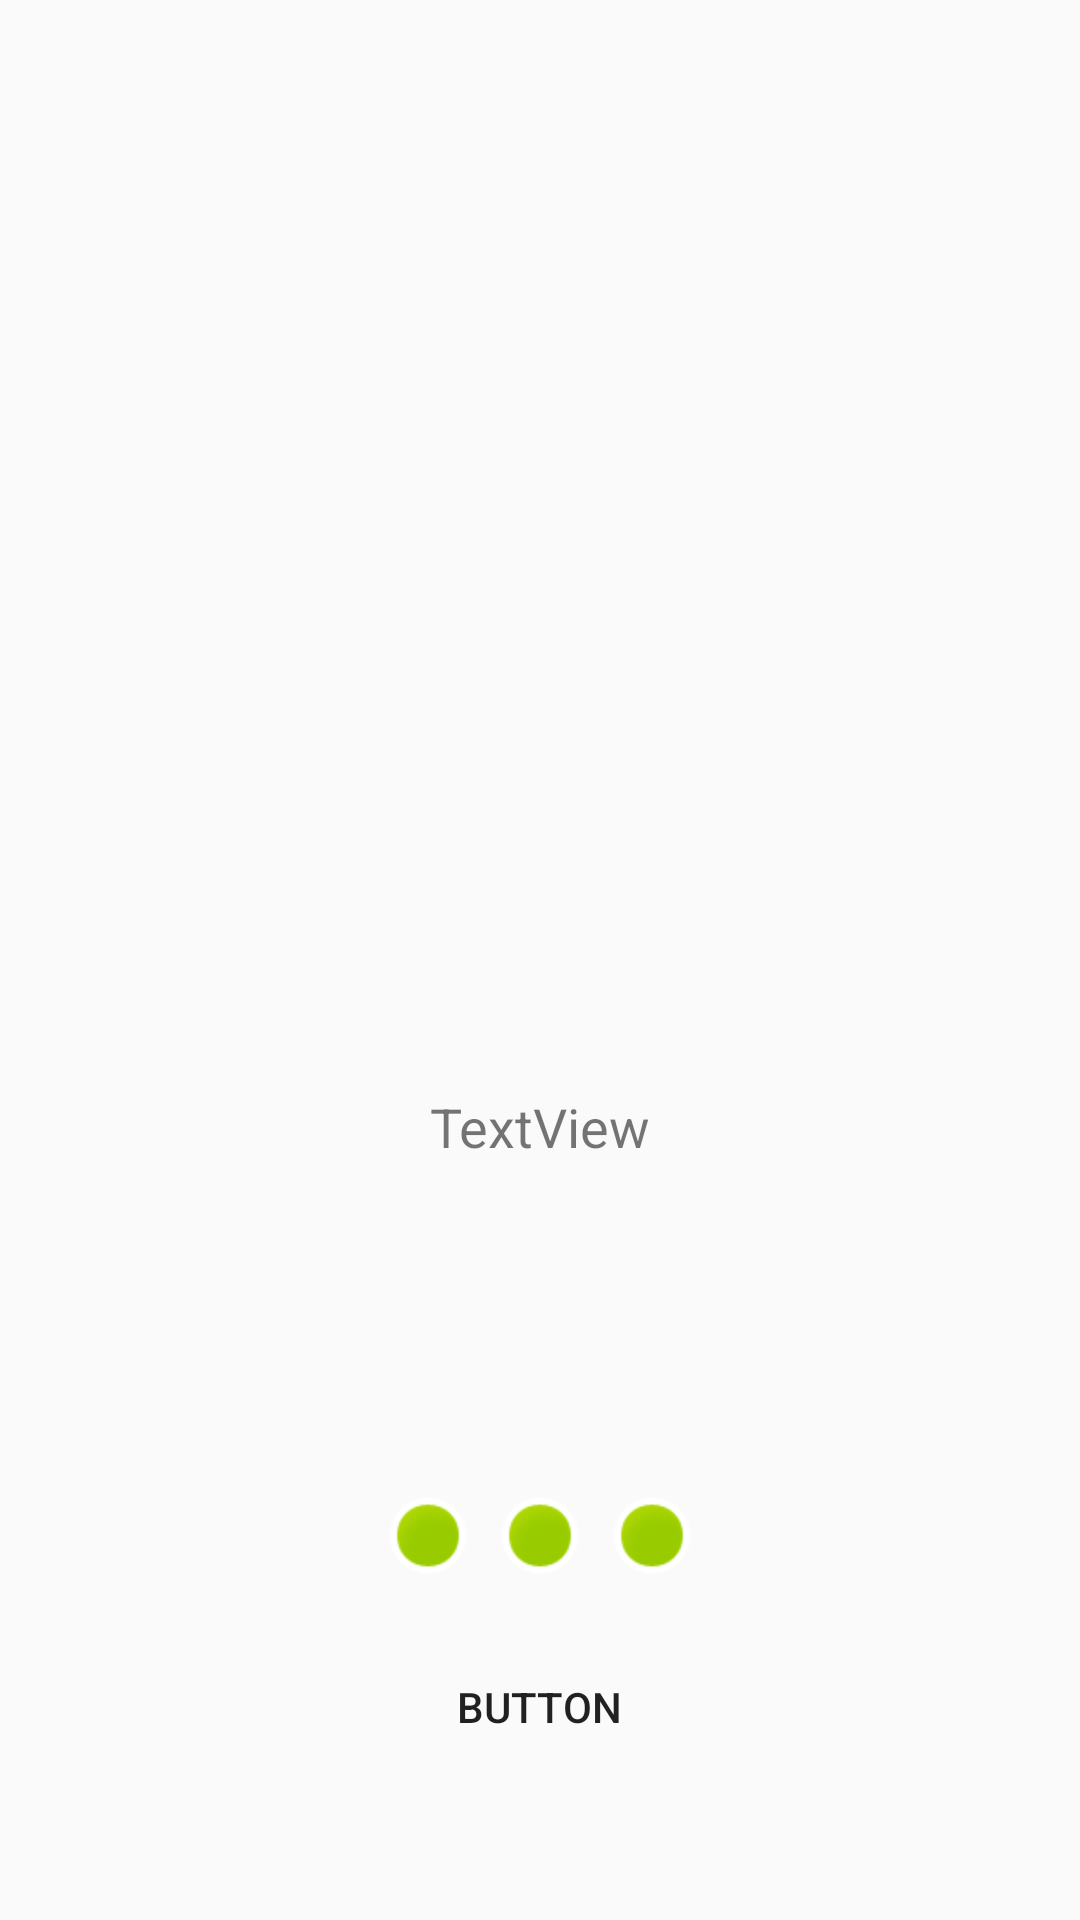

Where icons sit on this 1080px×1920px app screen, as (x1, y1, x2, y2):
presence online: (396, 1504, 460, 1567), (508, 1504, 572, 1567), (620, 1504, 684, 1567)
